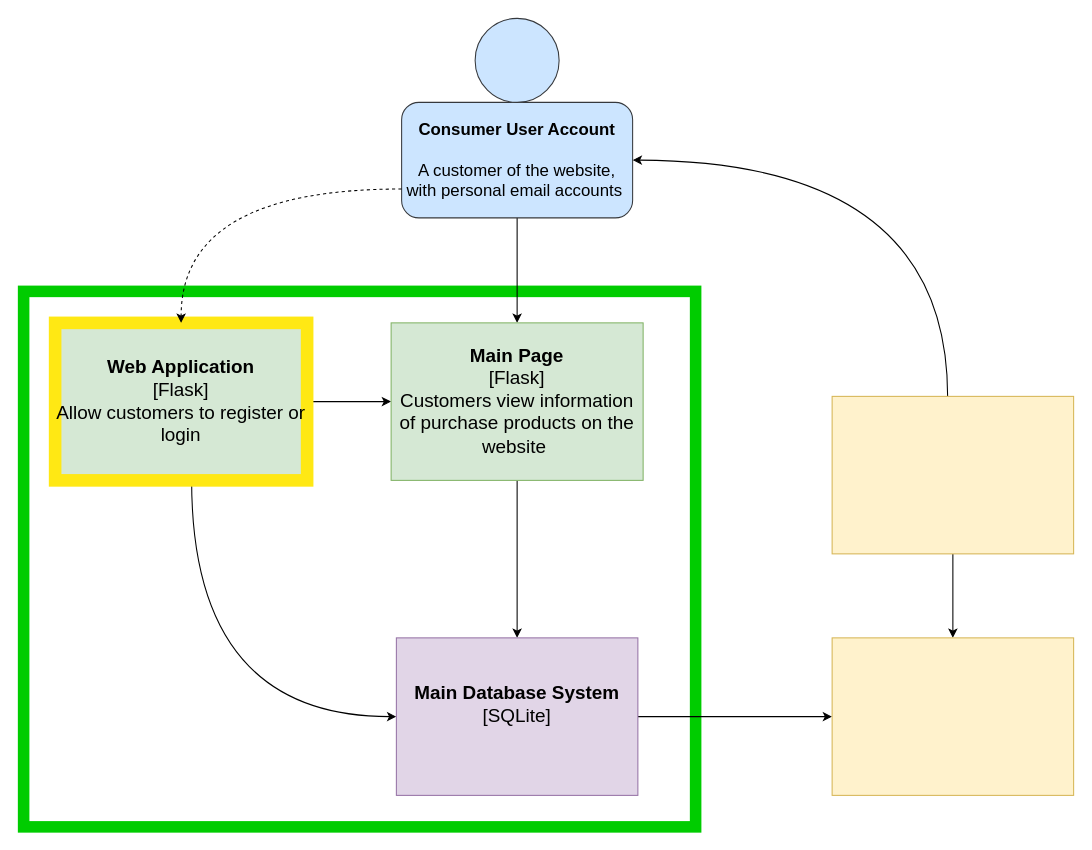
Some shapes in this 1092 by 850 pixel diagram are drawn without their labels. Each missing label, with the centre of its shape:
E-mail API [Python] add discription here: (952,716)
E-mail System [Gmail API]: (952,474)
